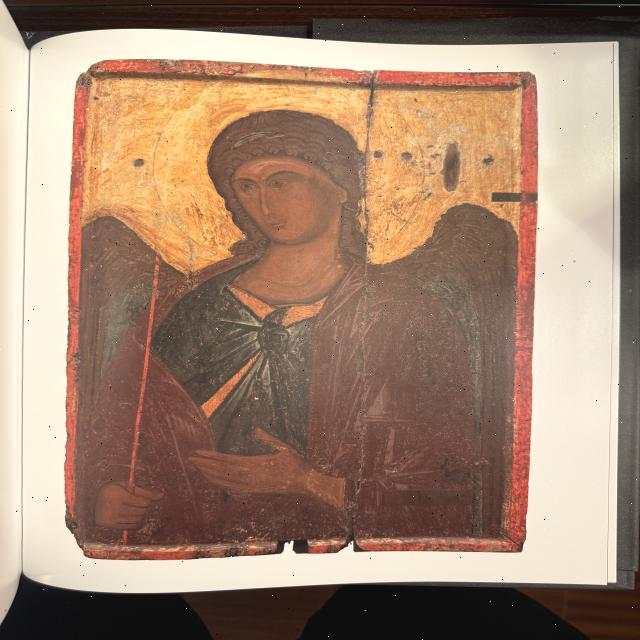angel: (77, 71, 509, 540)
aura: (138, 70, 430, 256)
scepter: (110, 206, 180, 548)
wing: (371, 187, 518, 542), (82, 213, 196, 547)
